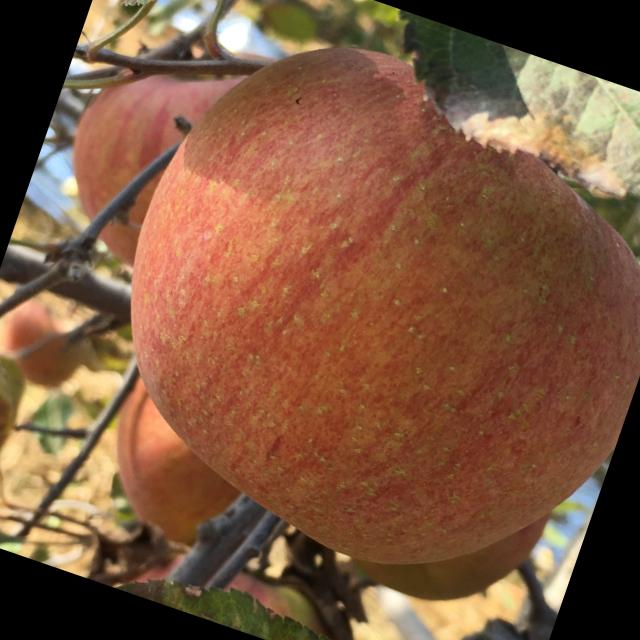fresh: (51, 1, 640, 637)
